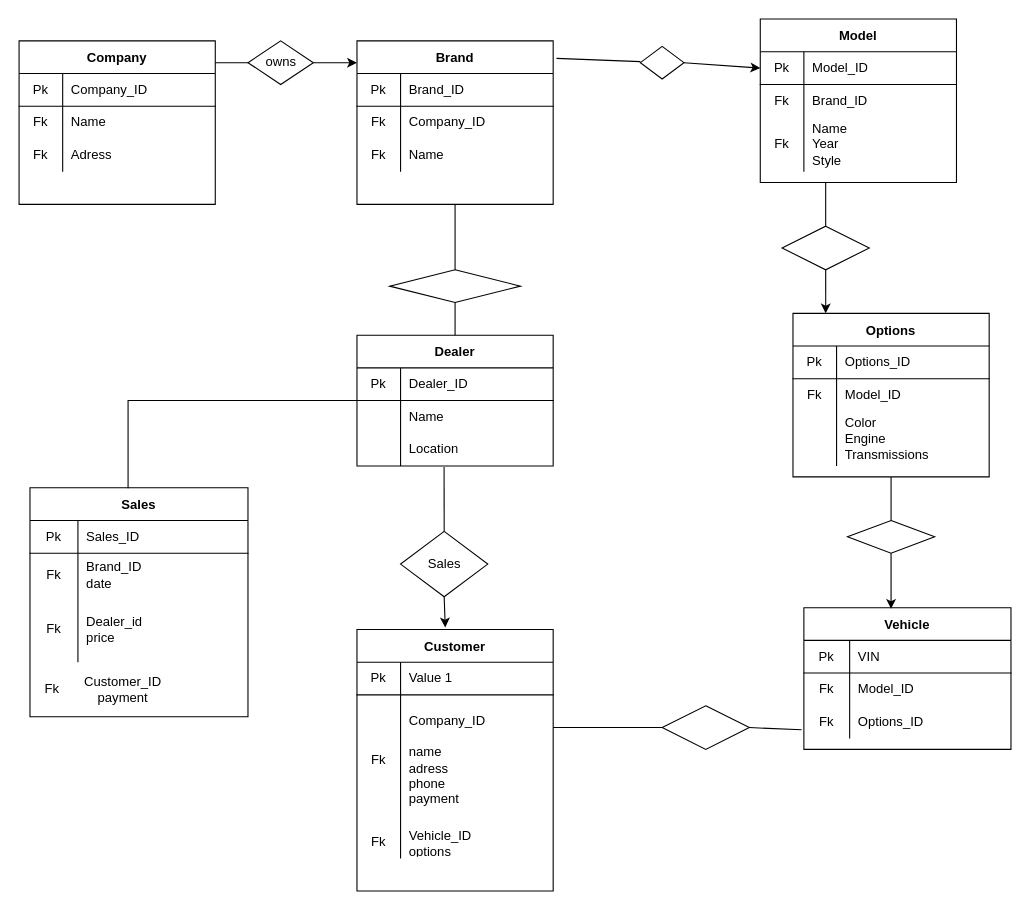
Some shapes in this 1030 by 910 pixel diagram are drawn without their labels. Here are the shapes that lost their labels. From the top down, the centre of each, then its label:
At point (661, 62): "Has".
At point (825, 247): "Includes".
At point (454, 285): "cooperates".
At point (890, 536): "included".
At point (705, 727): "Acquires".
